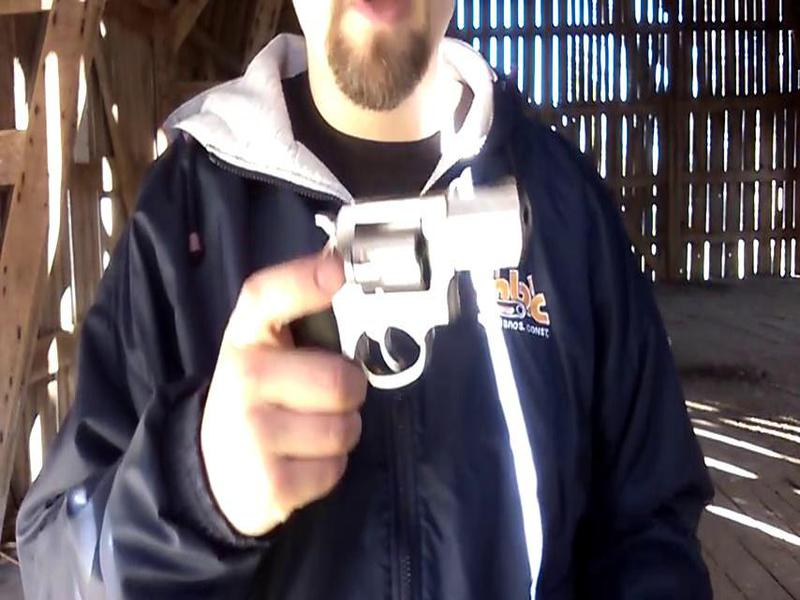Revolver: (287, 159, 558, 427)
